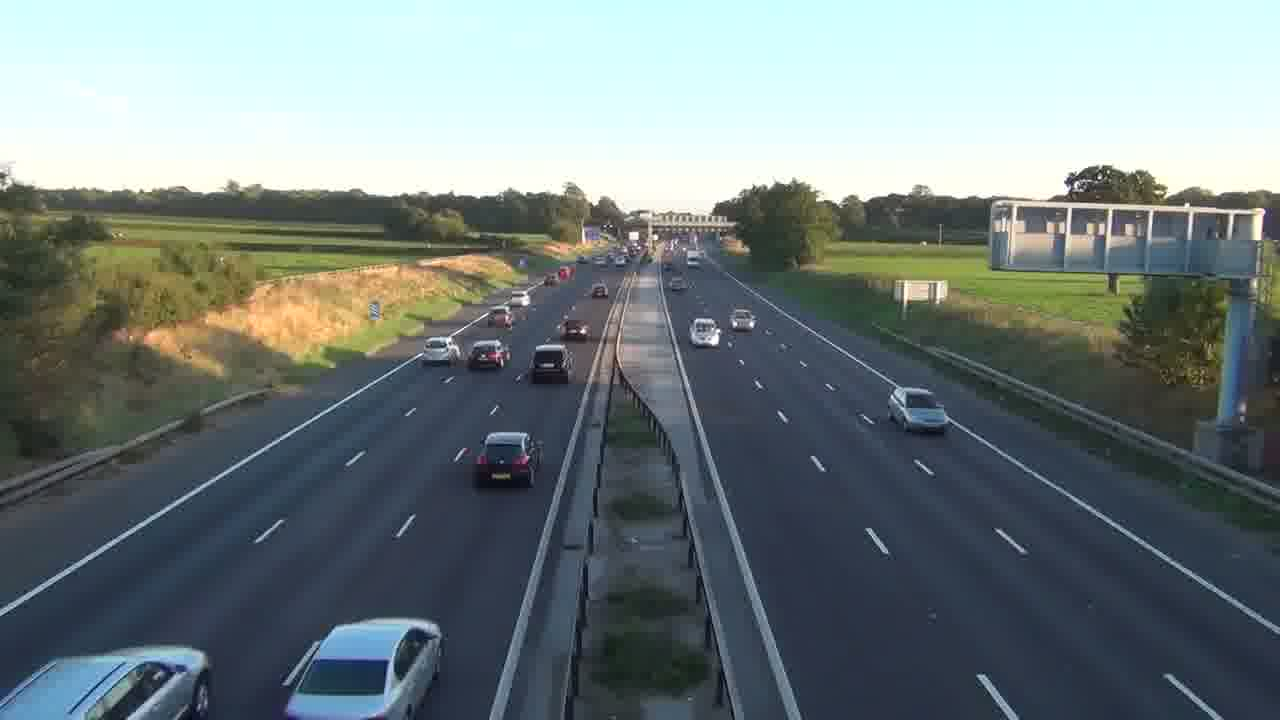car: (280, 616, 446, 719), (0, 643, 214, 719), (474, 431, 537, 488), (887, 385, 948, 434), (530, 342, 573, 383), (467, 340, 507, 371), (421, 337, 451, 364)
